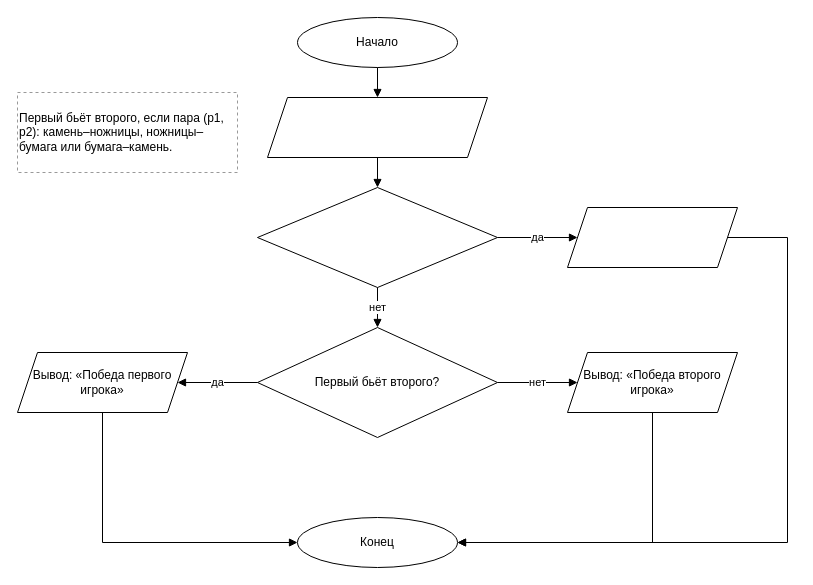
Some shapes in this 813 by 585 pixel diagram are drawn without their labels. Each missing label, with the centre of its shape:
p1 = p2 ?: point 377,237
Ввод: p1, p2: point 377,127
Вывод: «Ничья»: point 652,237
